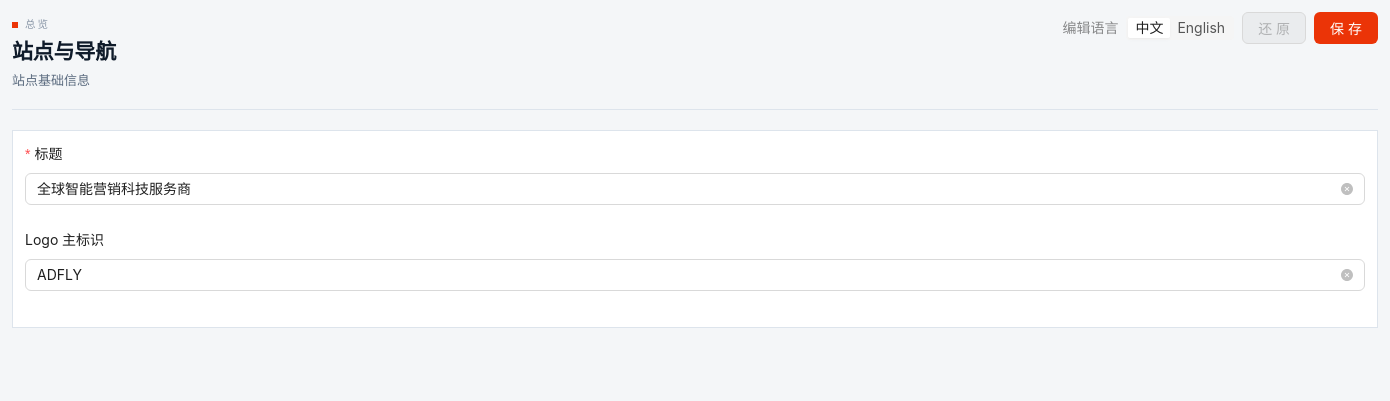
Test: ContentEditor › E6 改动字段后出现未保存提示、登记 dirty，并可二次确认还原
Replace the text in the field labelled "标题" with "！": (687,189) left=37, top=178, right=1337, bottom=200
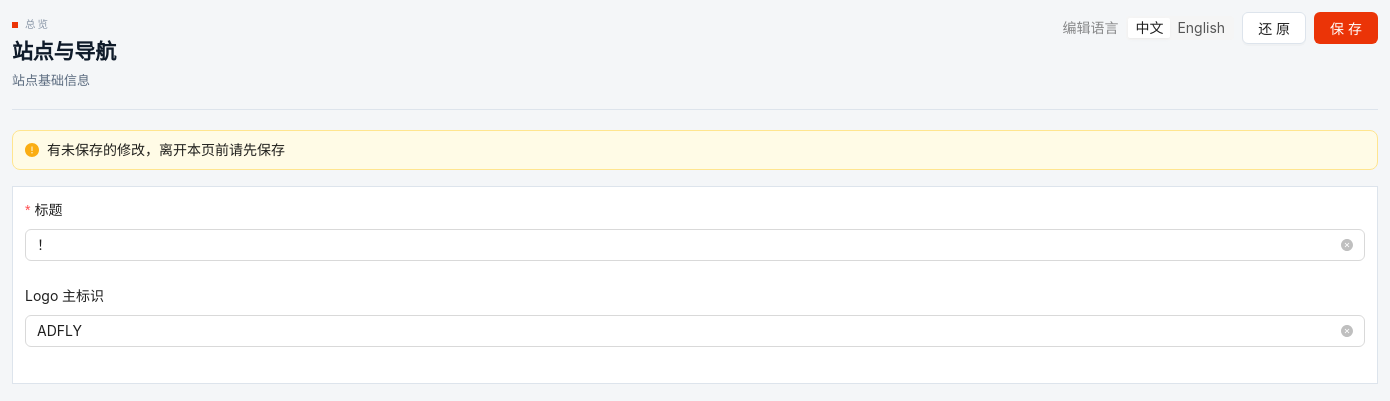
Result: the message "有未保存的修改，离开本页前请先保存" is shown at left=12, top=130, right=1378, bottom=170
Click the button with test id "content-reset": (1274,28) left=1242, top=12, right=1306, bottom=44
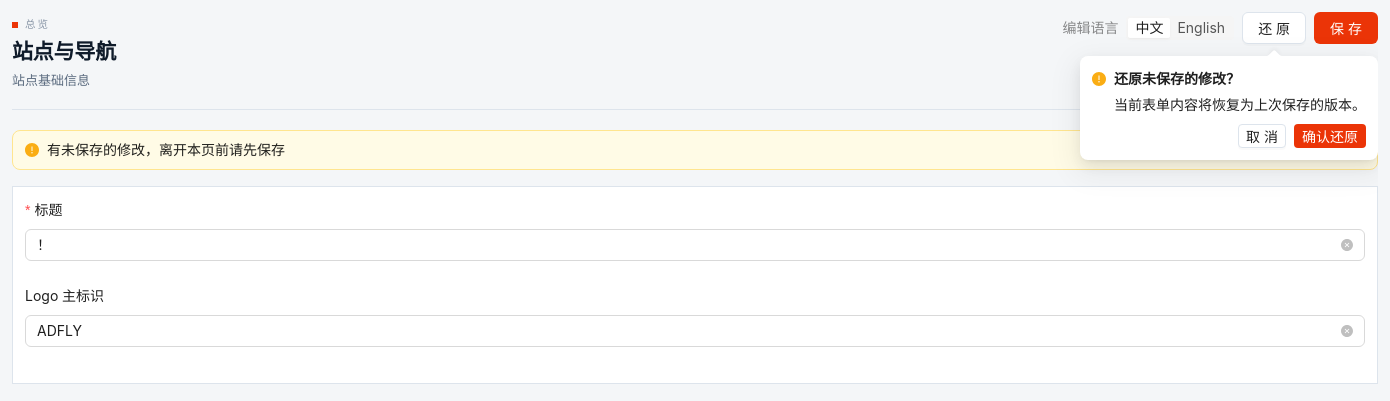
Click the button "确认还原": (1330,136) left=1294, top=124, right=1366, bottom=148
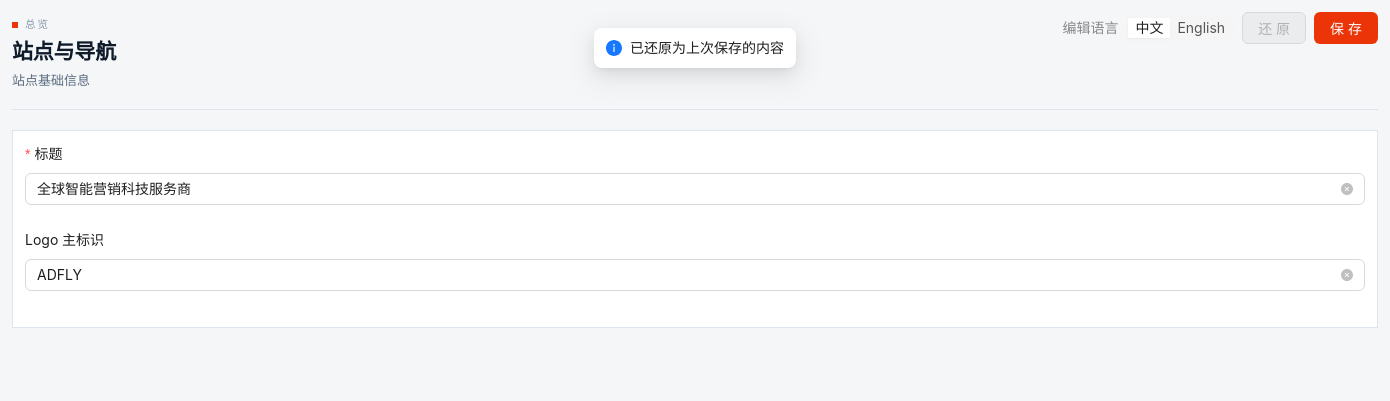
Result: the message with test id "content-dirty-tip" is gone
Result: the field labelled "标题" holds "全球智能营销科技服务商" at left=37, top=178, right=1337, bottom=200
Result: the text "已还原为上次保存的内容" is shown at left=630, top=37, right=784, bottom=59
